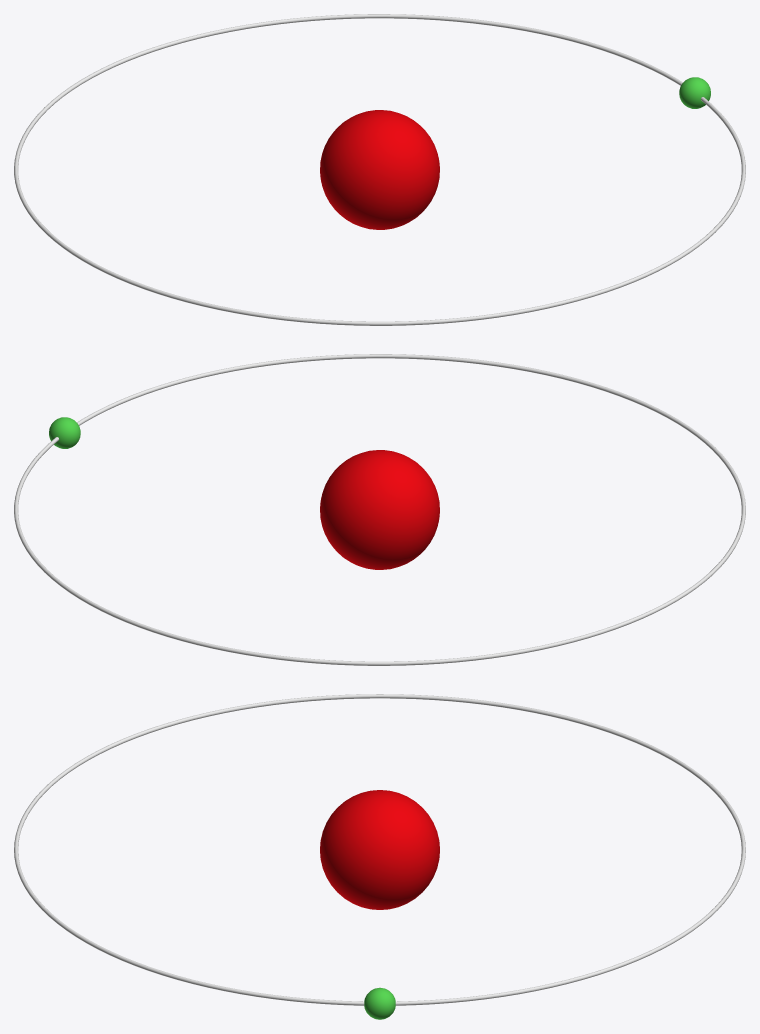
Rendered from Hydrogen.glb.
The picture shows the model from 3 angles, top to bottom: view 1: azimuth 30°, elevation 25°; view 2: azimuth 150°, elevation 25°; view 3: azimuth 270°, elevation 25°; orthographic projection.
Parts seen in each view (by area): view 1: element_001_hydrogen_nucleus, hydrogen orbital 1; view 2: element_001_hydrogen_nucleus, hydrogen orbital 1; view 3: element_001_hydrogen_nucleus, hydrogen orbital 1.
Boxes of the visible parts, x1,y1,x2,y2 form: element_001_hydrogen_nucleus: (320,110,439,229); hydrogen orbital 1: (14,14,745,325); element_001_hydrogen_nucleus: (320,450,439,569); hydrogen orbital 1: (14,354,745,665); element_001_hydrogen_nucleus: (320,790,439,909); hydrogen orbital 1: (14,694,745,1019).
Bounding box in the file's own units: 0.6964 × 0.1123 × 0.6834.
